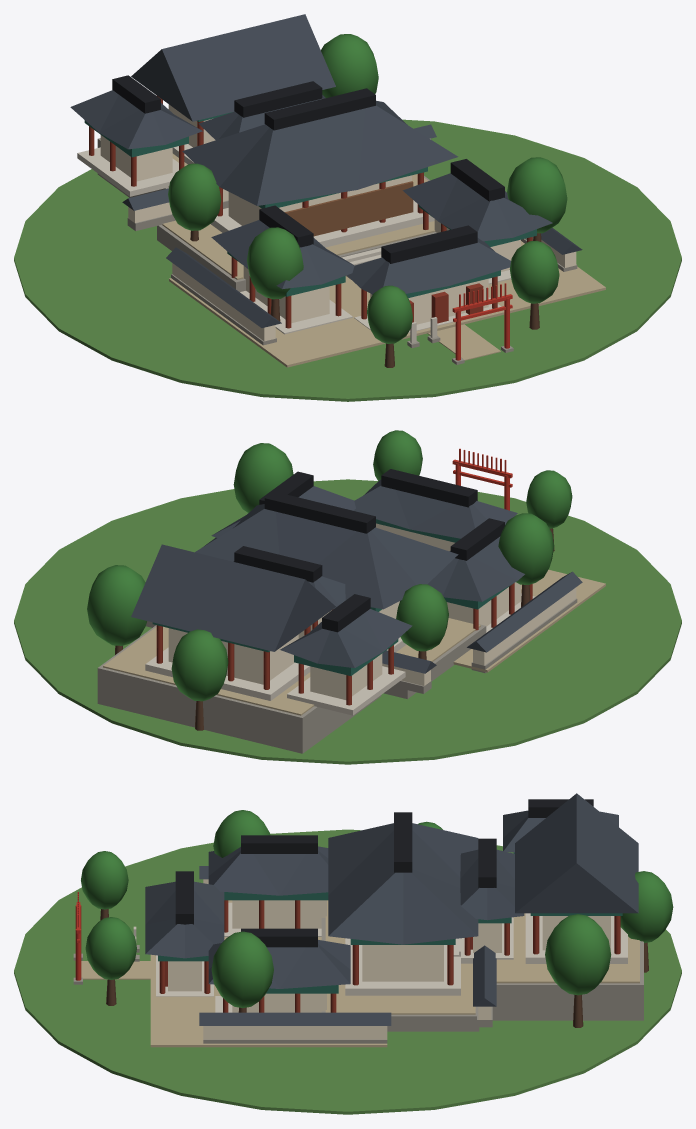
The model's file is yangcheon-hyanggyo.glb.
The picture shows the model from 3 angles, top to bottom: view 1: azimuth 30°, elevation 25°; view 2: azimuth 150°, elevation 25°; view 3: azimuth 270°, elevation 25°; orthographic projection.
Size of the model in its own units: 50.8 by 12.2 by 50.8.
